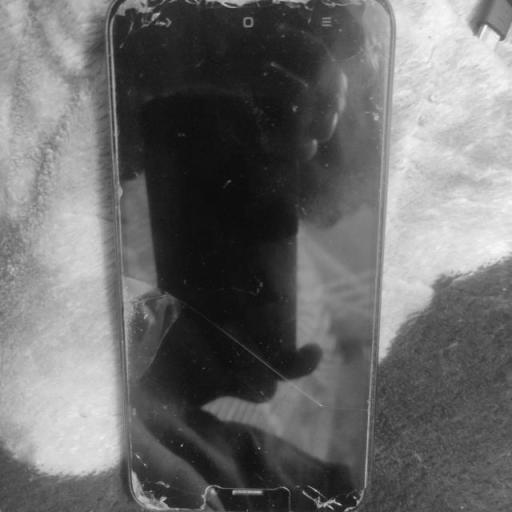phone: (106, 0, 393, 511)
